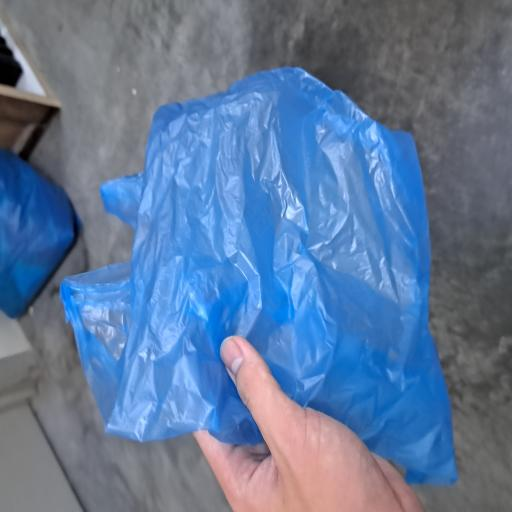plastic bag: (52, 27, 452, 448), (431, 195, 512, 365)
